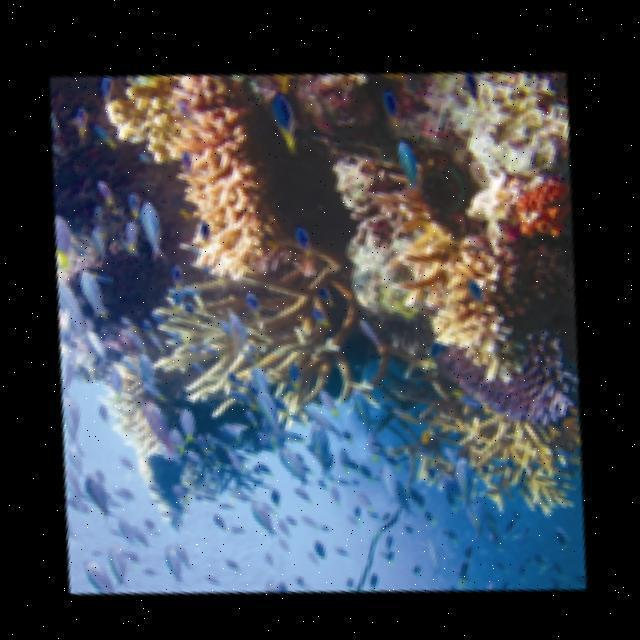Bleached Coral: (100, 356, 184, 454)
Healthy Coral: (335, 154, 503, 368), (100, 86, 274, 270), (135, 280, 339, 426), (413, 392, 566, 532), (486, 174, 558, 253)
